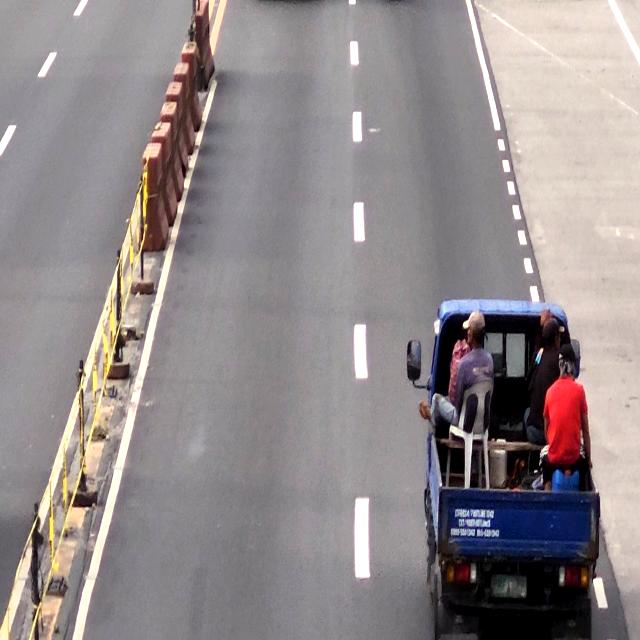License-Plate: (491, 569, 529, 601)
Truck: (425, 302, 595, 639)
